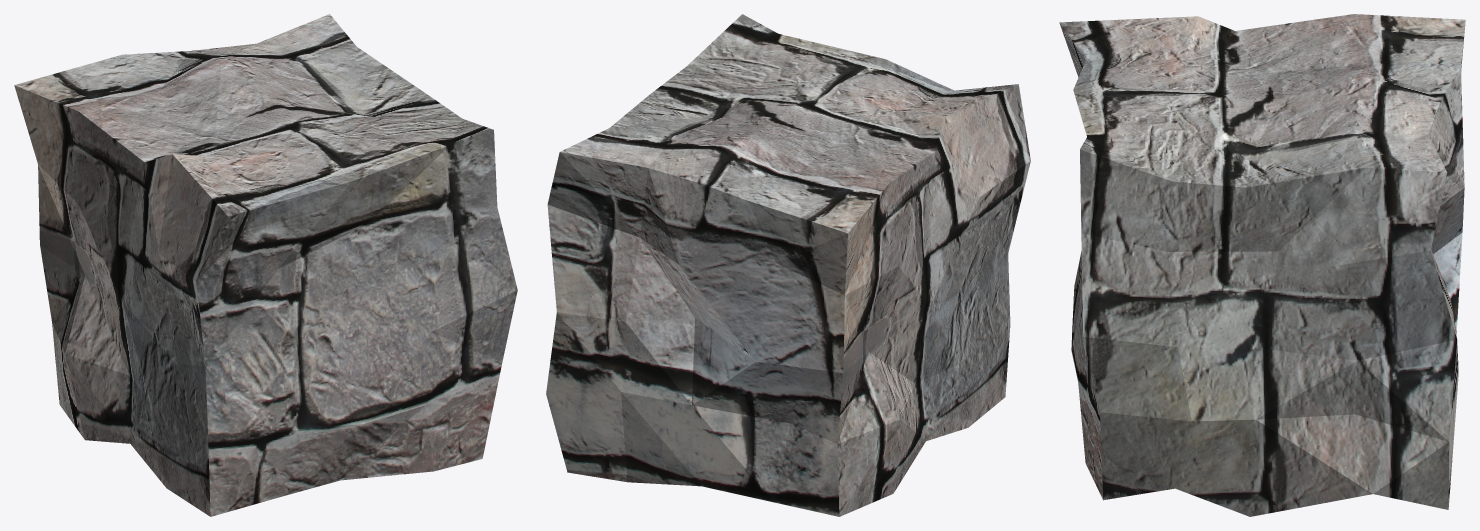
The model's file is WallDisplayMesh1.obj.
3 views of the same model, side by side, from view 1: azimuth 30°, elevation 25°; view 2: azimuth 150°, elevation 25°; view 3: azimuth 270°, elevation 25° (orthographic). The views are drawn at different scales.
Visible parts, largest first — view 1: Cube; view 2: Cube; view 3: Cube.
Part boxes in pixels (x1,y1,x2,y2): Cube: (14,14,517,516); Cube: (546,14,1030,516); Cube: (1059,14,1465,516).
Bounding box in the file's own units: 1.14 × 1.13 × 1.14.
1 material, 1 textured.
